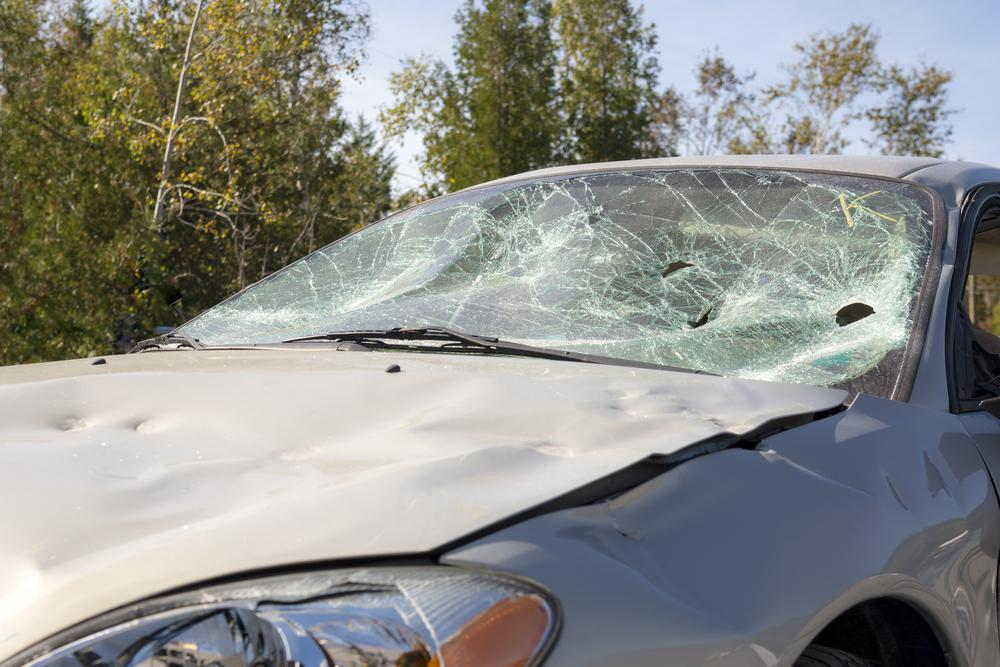dent: (24, 356, 800, 581), (564, 431, 1000, 657), (41, 408, 95, 438), (121, 411, 175, 435)
glass shatter: (169, 166, 935, 396)
lamp broken: (0, 559, 564, 667)
